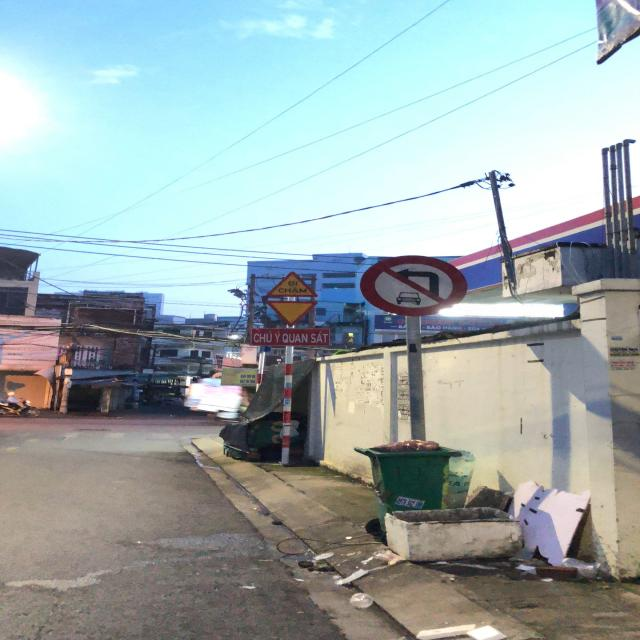Bien bao cam xe o to re trai: (359, 252, 464, 317)
Bien bao di cham: (260, 269, 318, 297)
Bien bao giao nhau voi duong uu tien: (258, 298, 322, 328)
